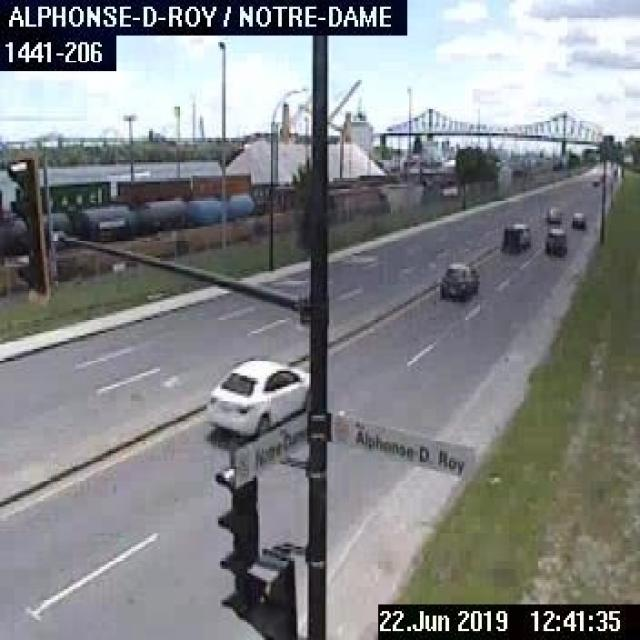vehicle: (200, 351, 307, 436), (436, 256, 478, 302), (498, 218, 531, 253), (542, 229, 567, 255), (569, 209, 584, 231), (547, 205, 564, 222), (587, 173, 598, 187)
